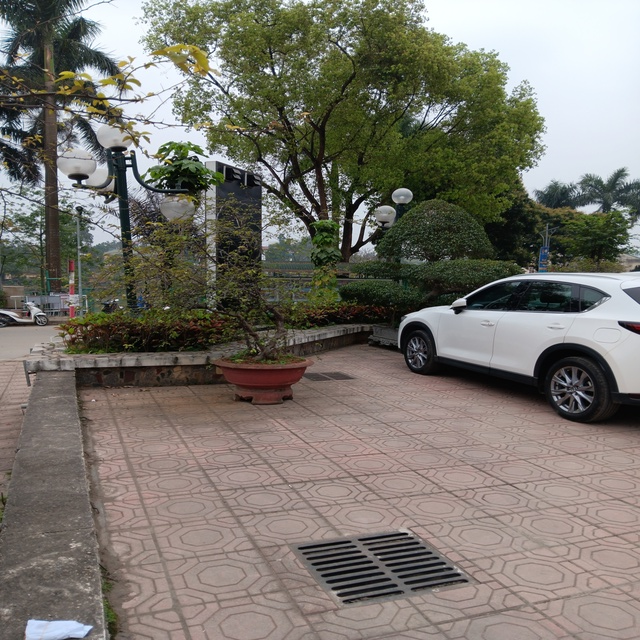caycanh: (194, 238, 326, 412)
